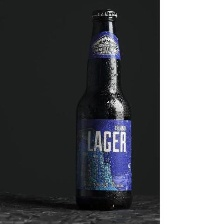bottle: (73, 7, 136, 213)
